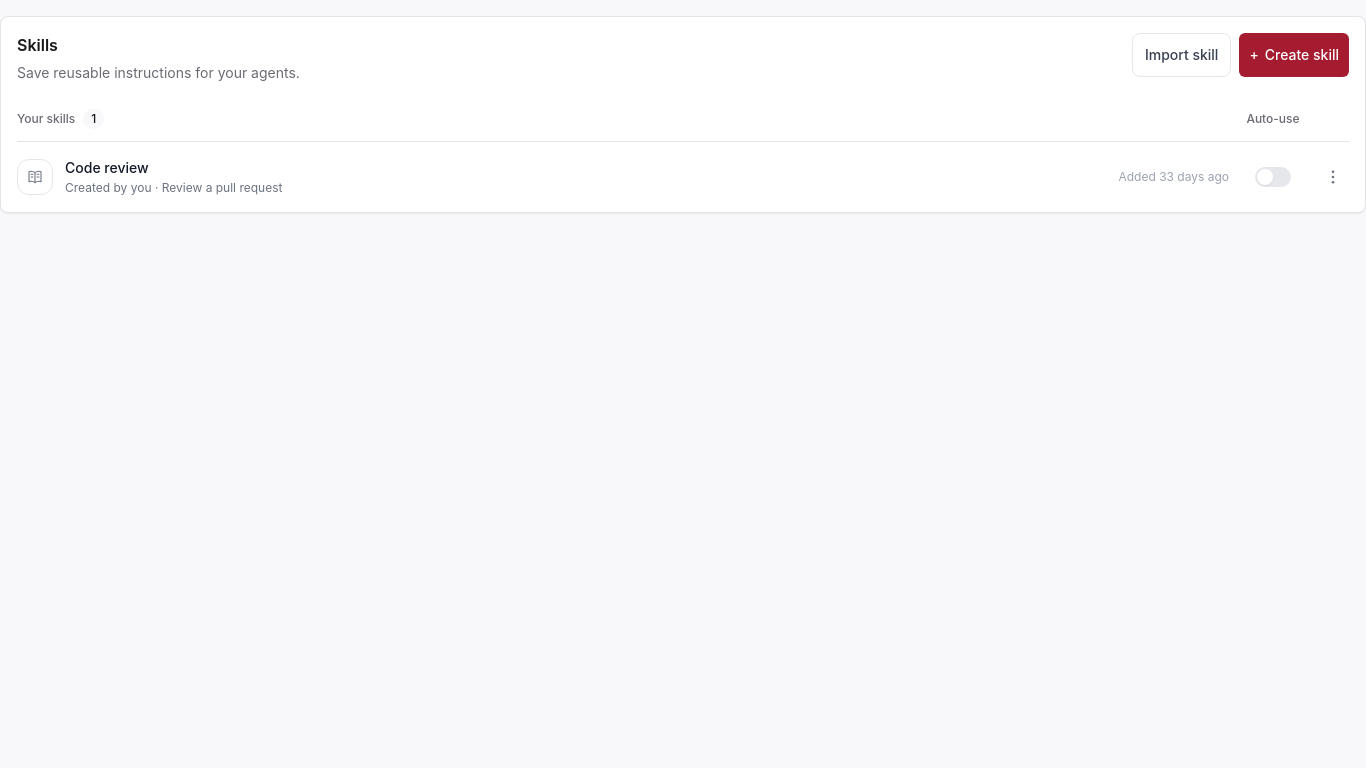
Test: requires explicit removal and sends the inspected revision
Click the button named "Manage Code review". click: (1333, 177)
box: x1=1317 y1=161 x2=1349 y2=193
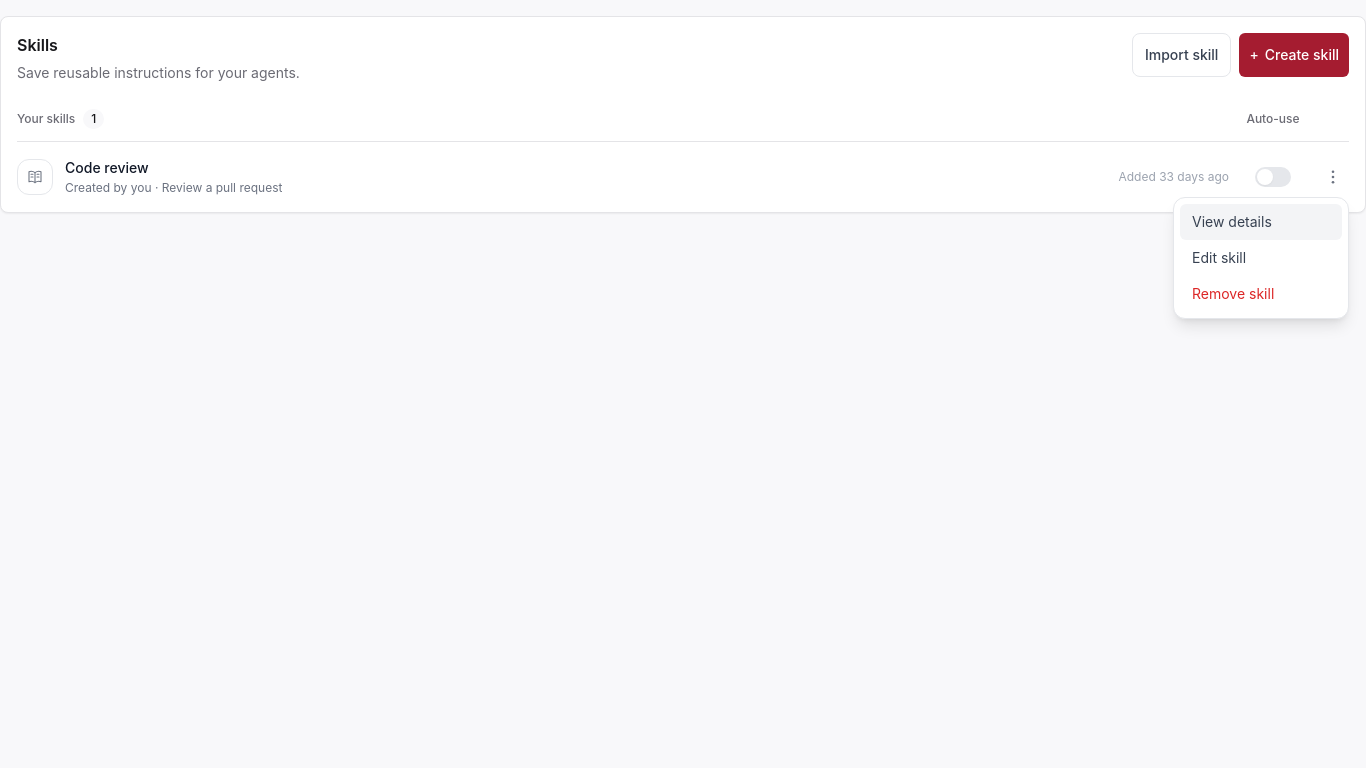
Click the menu item "Remove skill". click: (1261, 294)
box: x1=1180 y1=276 x2=1342 y2=312
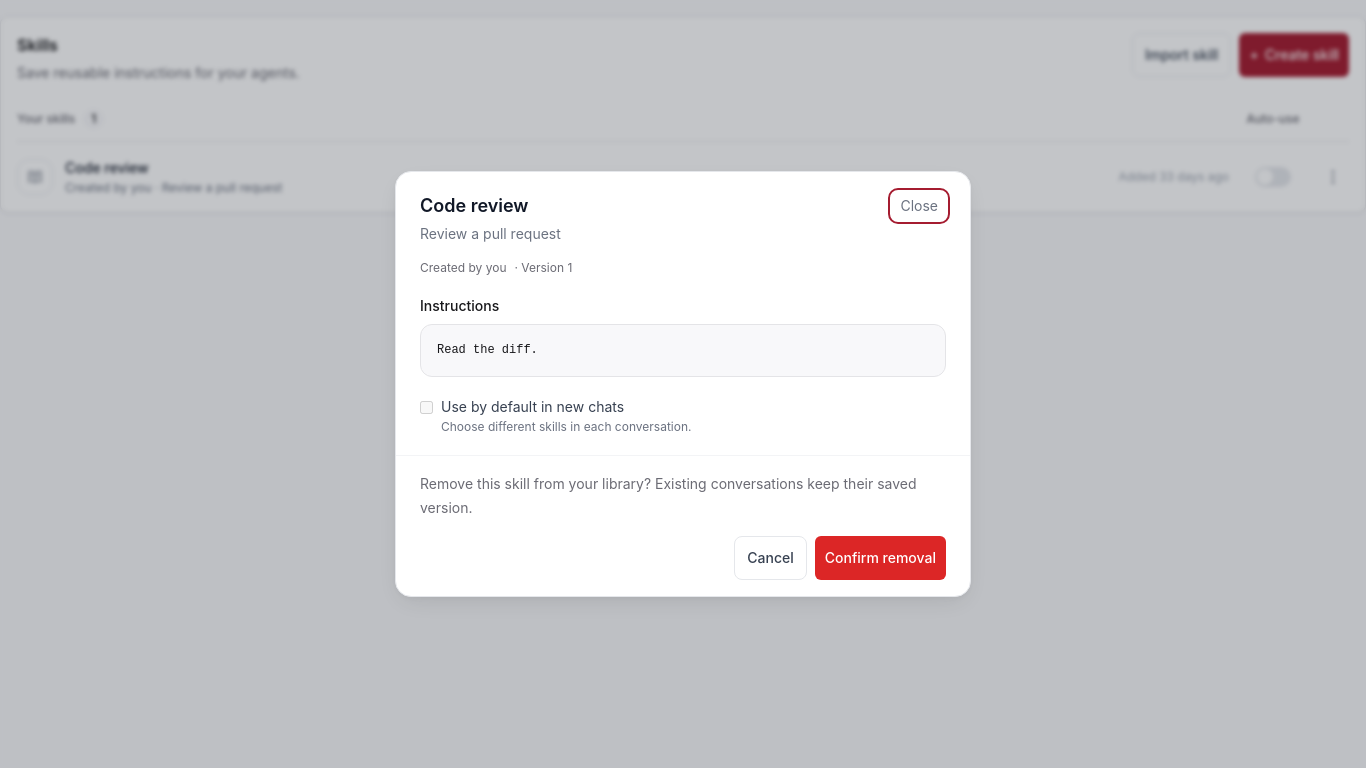
Click the button "Confirm removal". click: (880, 558)
box: x1=815 y1=536 x2=946 y2=580
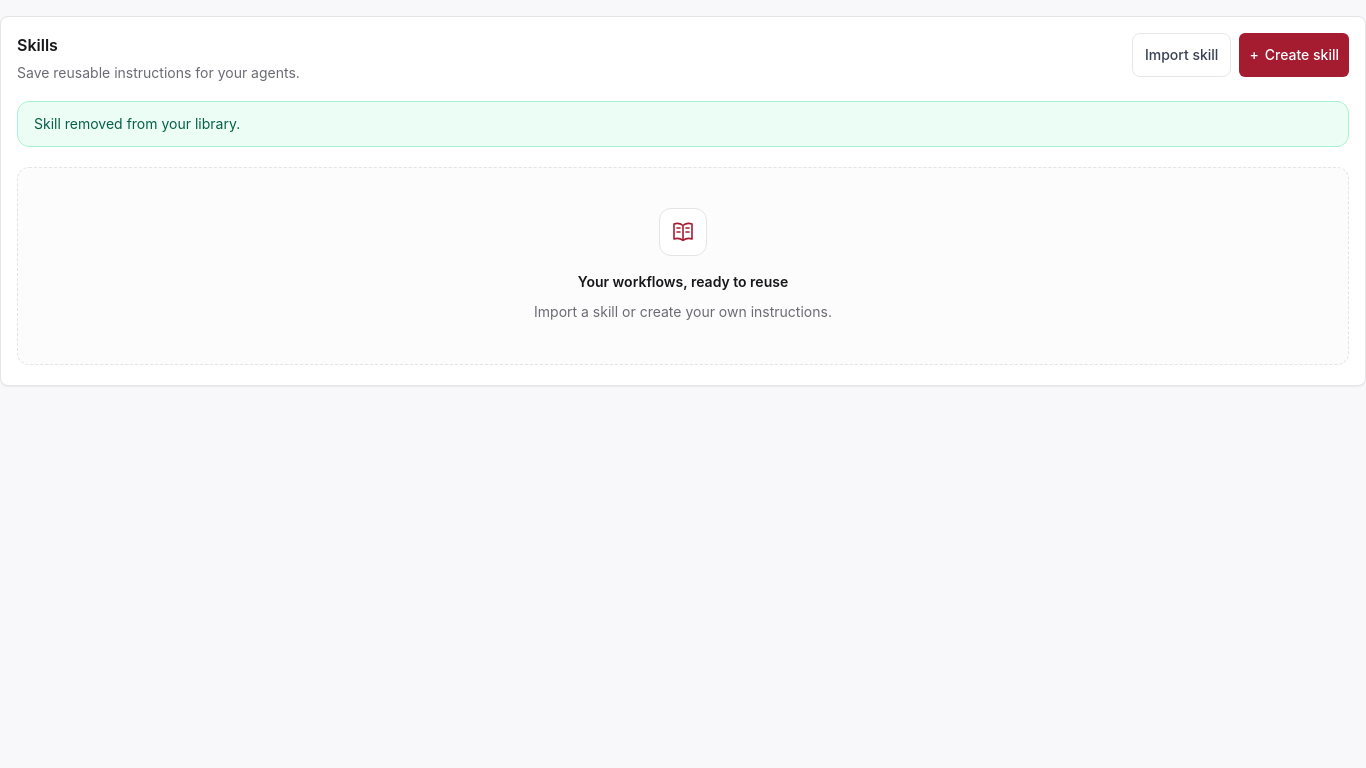
Check: the heading "Your workflows, ready to reuse" is shown, box x1=578 y1=273 x2=788 y2=290
